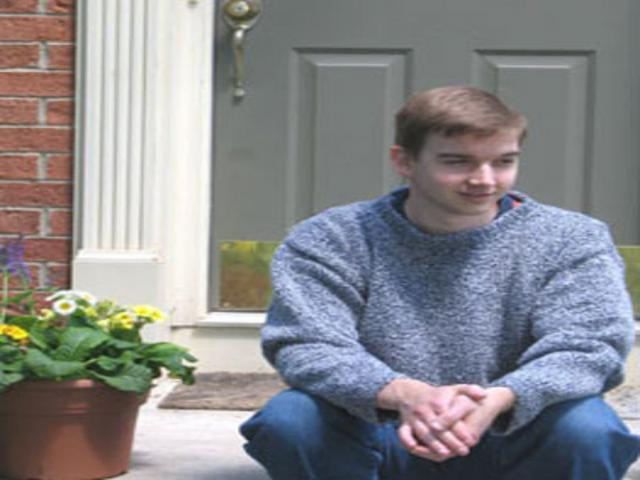Door-handle: (219, 0, 263, 98)
